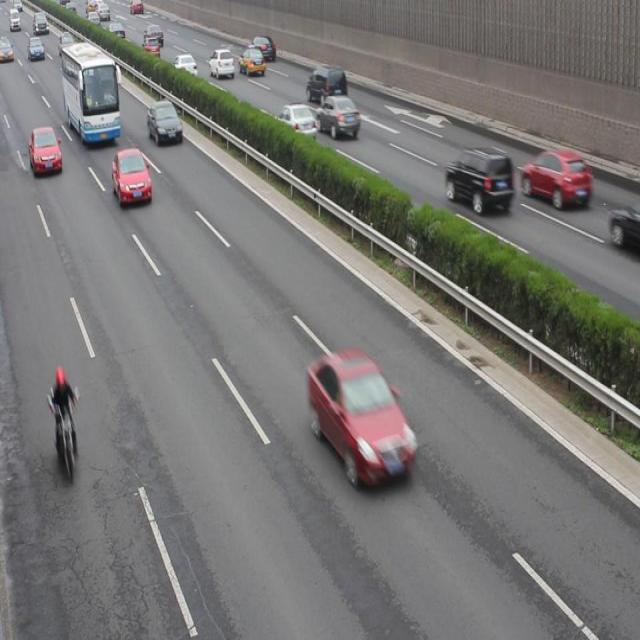car: (305, 352, 413, 486), (519, 147, 590, 212), (445, 147, 512, 213), (110, 150, 150, 207), (316, 94, 361, 140), (607, 203, 640, 256), (28, 124, 62, 175), (276, 105, 316, 143), (147, 104, 180, 148), (208, 48, 234, 80), (238, 47, 266, 75), (249, 34, 275, 62), (175, 55, 197, 78), (141, 34, 160, 60), (143, 24, 163, 46), (104, 20, 124, 40), (28, 36, 44, 61), (59, 33, 76, 56), (1, 34, 13, 63)
truck: (306, 64, 346, 108)
van: (61, 41, 120, 144)
